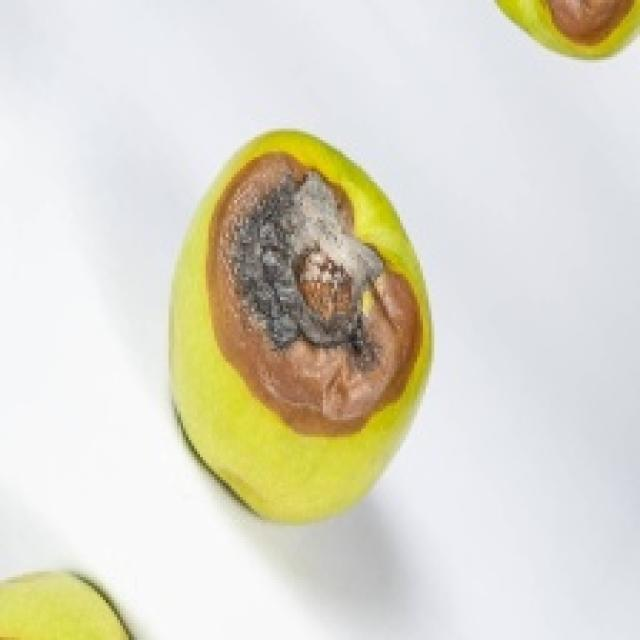rotten_apple: (175, 138, 432, 519)
